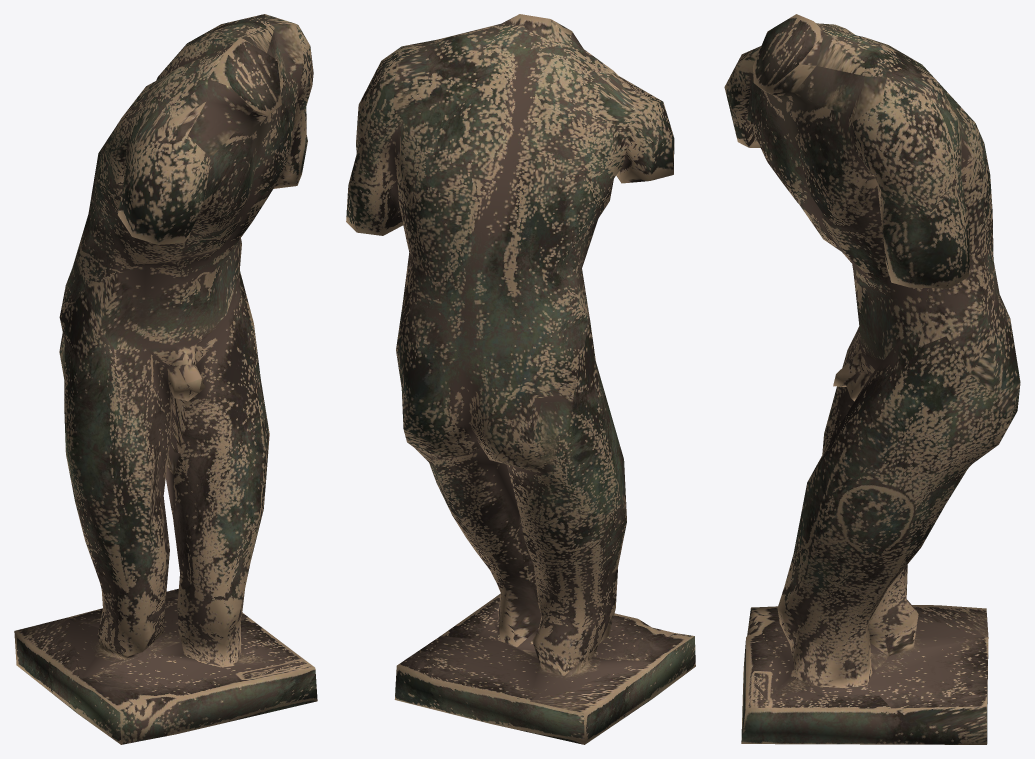
File: roman bronze sculpture.fbx
3 renders of one model, left to right at view 1: azimuth 30°, elevation 25°; view 2: azimuth 150°, elevation 25°; view 3: azimuth 270°, elevation 25°, orthographic. The views are drawn at different scales.
Parts seen in each view (by area): view 1: the-valentini-torso_bronze; view 2: the-valentini-torso_bronze; view 3: the-valentini-torso_bronze.
Boxes of the visible parts, x1,y1,x2,y2 form: the-valentini-torso_bronze: [14, 14, 317, 744]; the-valentini-torso_bronze: [346, 14, 695, 744]; the-valentini-torso_bronze: [724, 14, 1020, 744].
Size of the model in its own units: 149 by 351 by 135.
